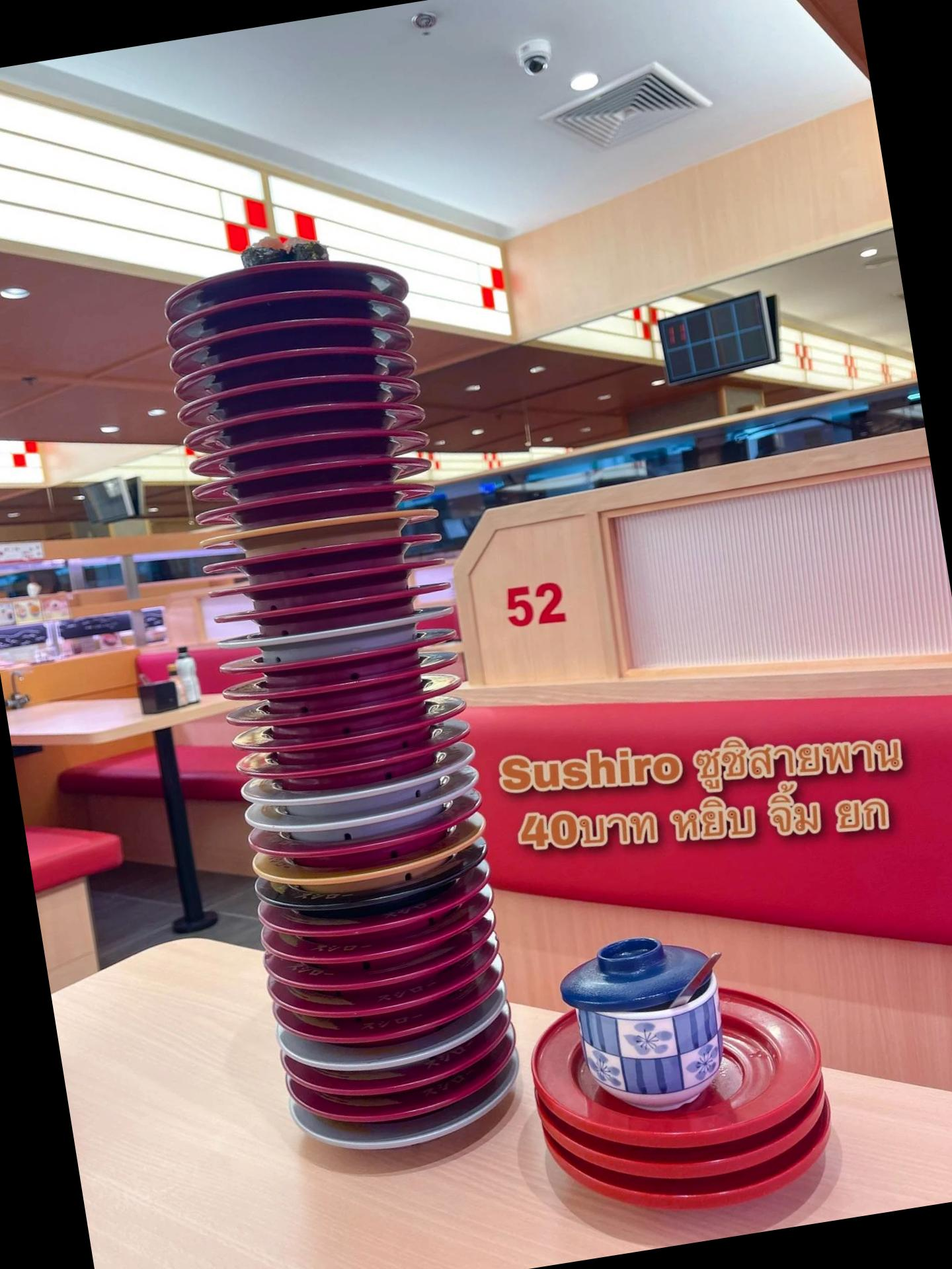Janback: (295, 872, 463, 915)
Jangold: (206, 504, 423, 560), (273, 850, 453, 899)
Janred: (147, 235, 423, 310), (199, 467, 457, 535), (199, 444, 444, 508), (212, 524, 446, 591), (170, 276, 415, 339), (200, 417, 431, 480), (188, 361, 415, 425), (194, 393, 422, 453), (222, 552, 456, 610), (229, 576, 456, 634), (177, 304, 414, 359), (183, 334, 416, 389), (240, 656, 465, 711), (248, 705, 465, 760), (233, 633, 456, 686), (244, 679, 458, 734), (255, 731, 446, 789), (271, 896, 455, 949), (288, 927, 490, 971), (271, 820, 455, 868), (302, 953, 474, 1002), (301, 983, 469, 1027), (311, 1008, 463, 1051), (327, 1056, 482, 1098), (334, 1088, 475, 1126)
Janwhite: (232, 609, 443, 667), (257, 760, 462, 817), (277, 794, 457, 843), (330, 1114, 484, 1163), (321, 1033, 469, 1077)
